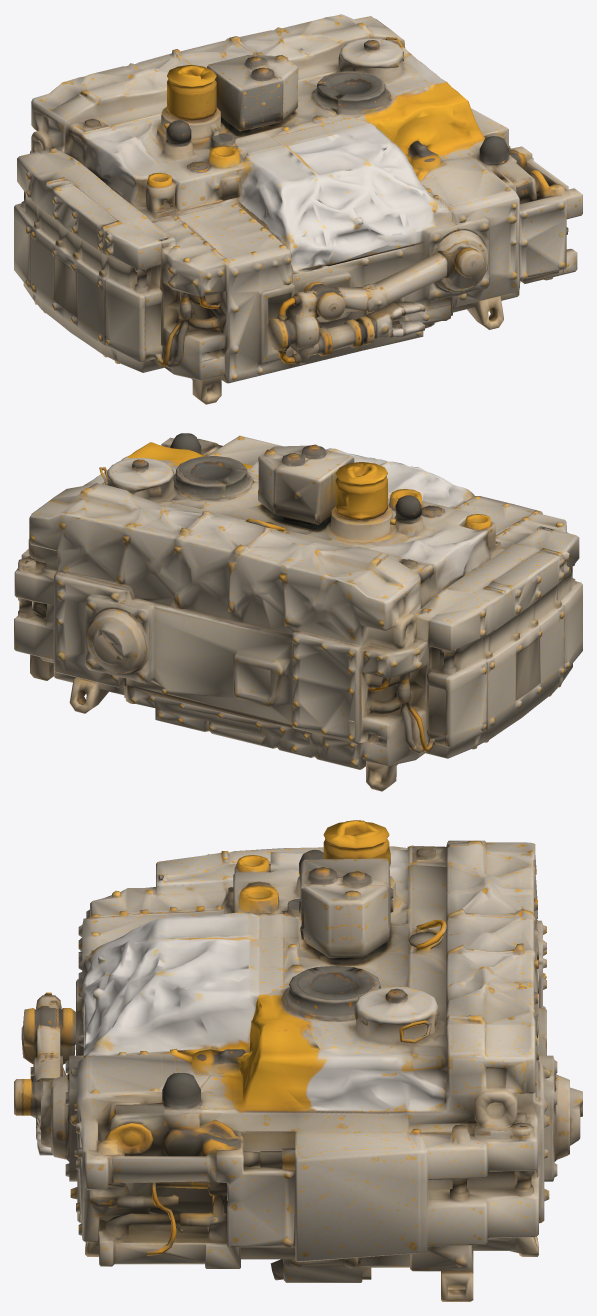
File: SM_Probe_Body.fbx
The picture shows the model from 3 angles, top to bottom: view 1: azimuth 30°, elevation 25°; view 2: azimuth 150°, elevation 25°; view 3: azimuth 270°, elevation 25°; orthographic projection. The views are drawn at different scales.
Parts seen in each view (by area): view 1: SM_Probe_Body; view 2: SM_Probe_Body; view 3: SM_Probe_Body.
Part boxes in pixels (x1=…): SM_Probe_Body: x1=14, y1=14, x2=582, y2=404; SM_Probe_Body: x1=14, y1=433, x2=582, y2=791; SM_Probe_Body: x1=14, y1=820, x2=582, y2=1301.
Bounding box in the file's own units: 0.9765 × 0.5102 × 0.8428.
Materials: 1 (1 with a texture image).
